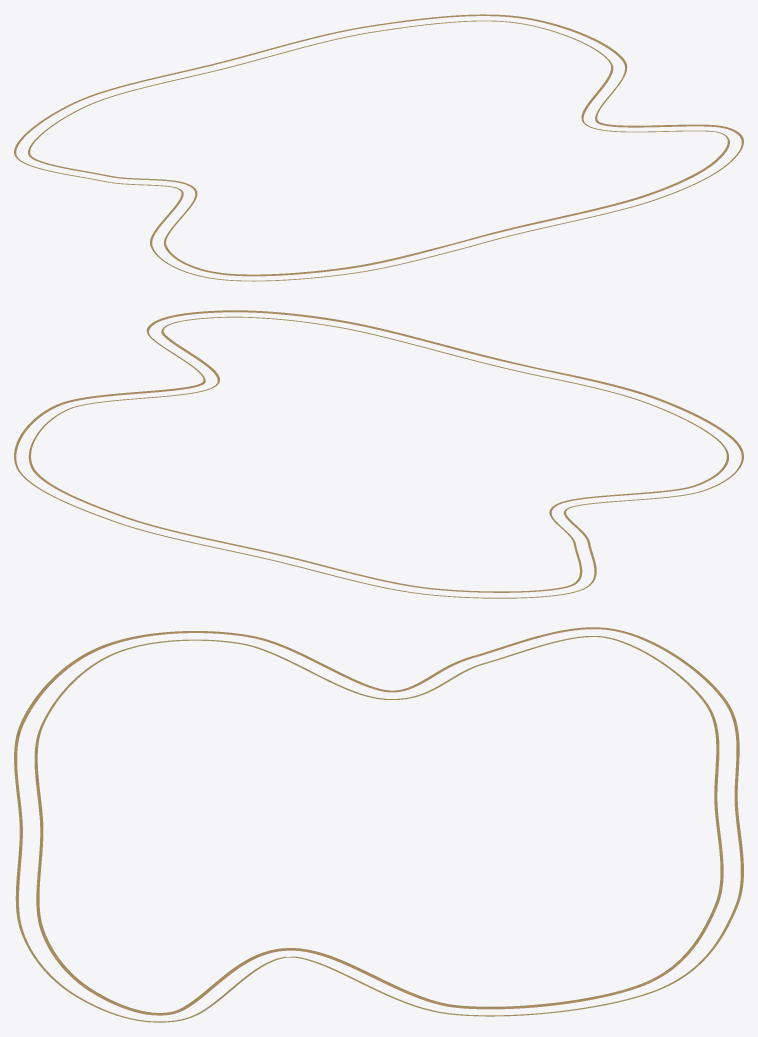
Rendered from road_shoulders.glb.
3 renders of one model, top to bottom at view 1: azimuth 30°, elevation 25°; view 2: azimuth 150°, elevation 25°; view 3: azimuth 270°, elevation 25°, orthographic. The views are drawn at different scales.
Parts seen in each view (by area): view 1: primitive_road_shoulders; view 2: primitive_road_shoulders; view 3: primitive_road_shoulders.
Boxes of the visible parts, x1,y1,x2,y2 form: primitive_road_shoulders: [14, 14, 743, 281]; primitive_road_shoulders: [14, 310, 743, 598]; primitive_road_shoulders: [14, 627, 743, 1022].
Bounding box in the file's own units: 946 × 2.54 × 736.
